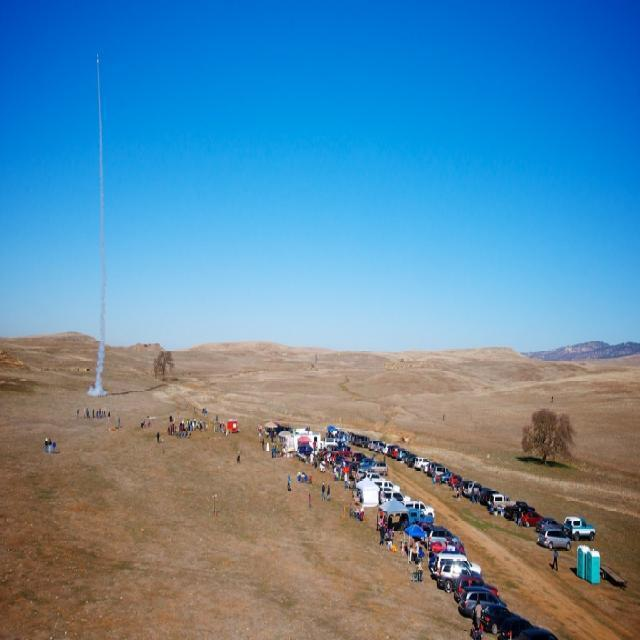Missile: (95, 48, 102, 68)
